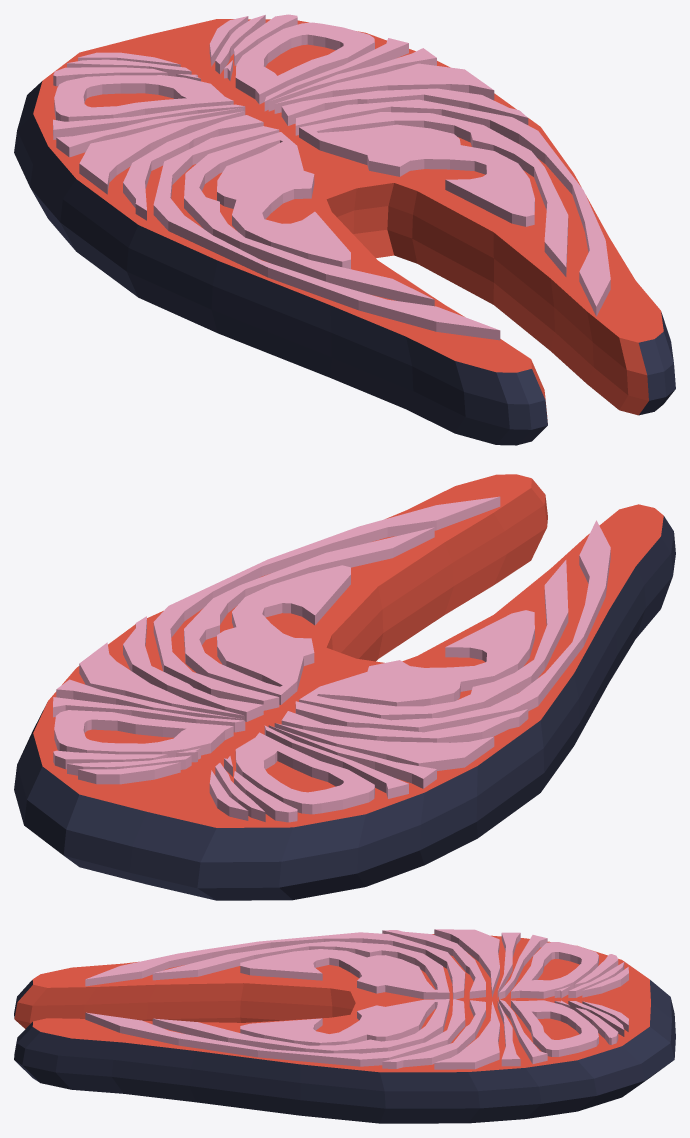
The model's file is MeatTwo.fbx.
3 views of the same model, one above another, from view 1: azimuth 30°, elevation 25°; view 2: azimuth 150°, elevation 25°; view 3: azimuth 270°, elevation 25° (orthographic). The views are drawn at different scales.
Visible parts, largest first — view 1: Plane, Plane.001; view 2: Plane, Plane.001; view 3: Plane, Plane.001.
Part boxes in pixels (x1,y1,x2,y2): Plane: [14, 19, 675, 445]; Plane.001: [53, 14, 610, 340]; Plane: [14, 474, 675, 900]; Plane.001: [53, 496, 610, 822]; Plane: [14, 934, 675, 1123]; Plane.001: [85, 929, 628, 1069].
Size of the model in its own units: 116 by 21.89 by 225.
